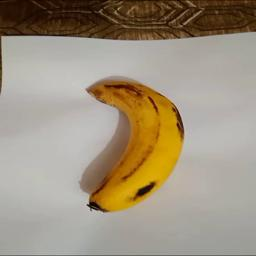Banana Semifresh: (83, 79, 186, 215)
